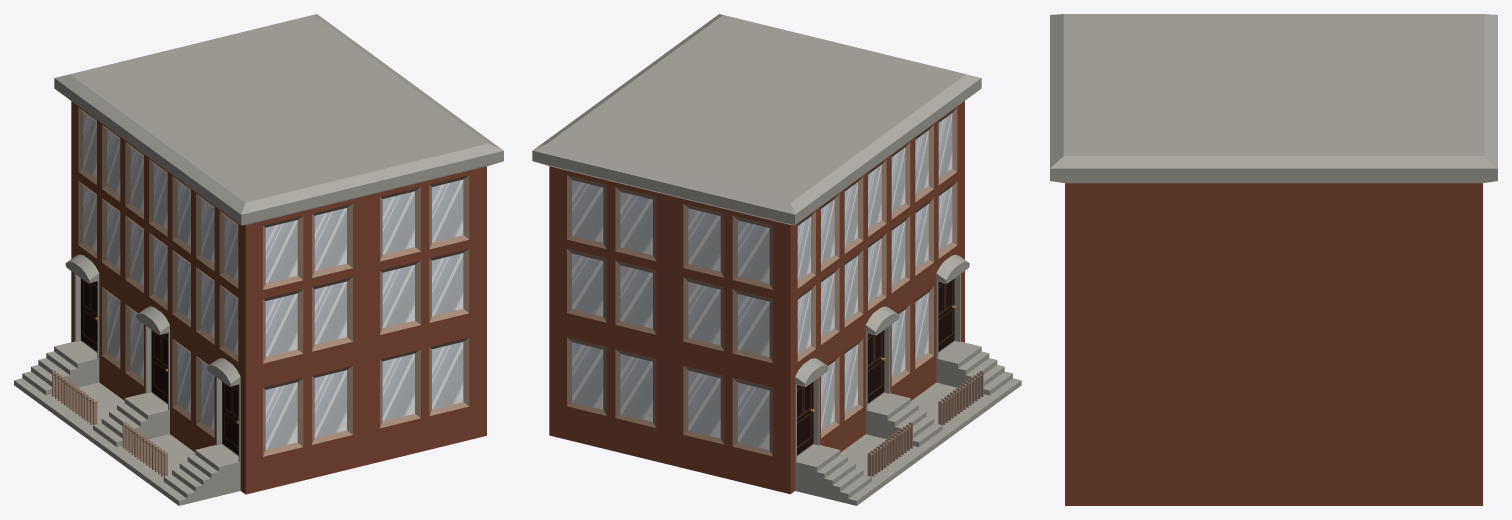
The model's file is building04v2WTexture.fbx.
3 views of the same model, side by side, from view 1: azimuth 30°, elevation 25°; view 2: azimuth 150°, elevation 25°; view 3: azimuth 270°, elevation 25° (orthographic). The views are drawn at different scales.
Parts seen in each view (by area): view 1: polySurface5; view 2: polySurface5; view 3: polySurface5.
Part boxes in pixels (x1,y1,x2,y2): polySurface5: [14, 14, 503, 505]; polySurface5: [532, 14, 1021, 505]; polySurface5: [1050, 14, 1497, 505].
Size of the model in its own units: 107 by 95.47 by 111.
2 materials, 2 textured.
